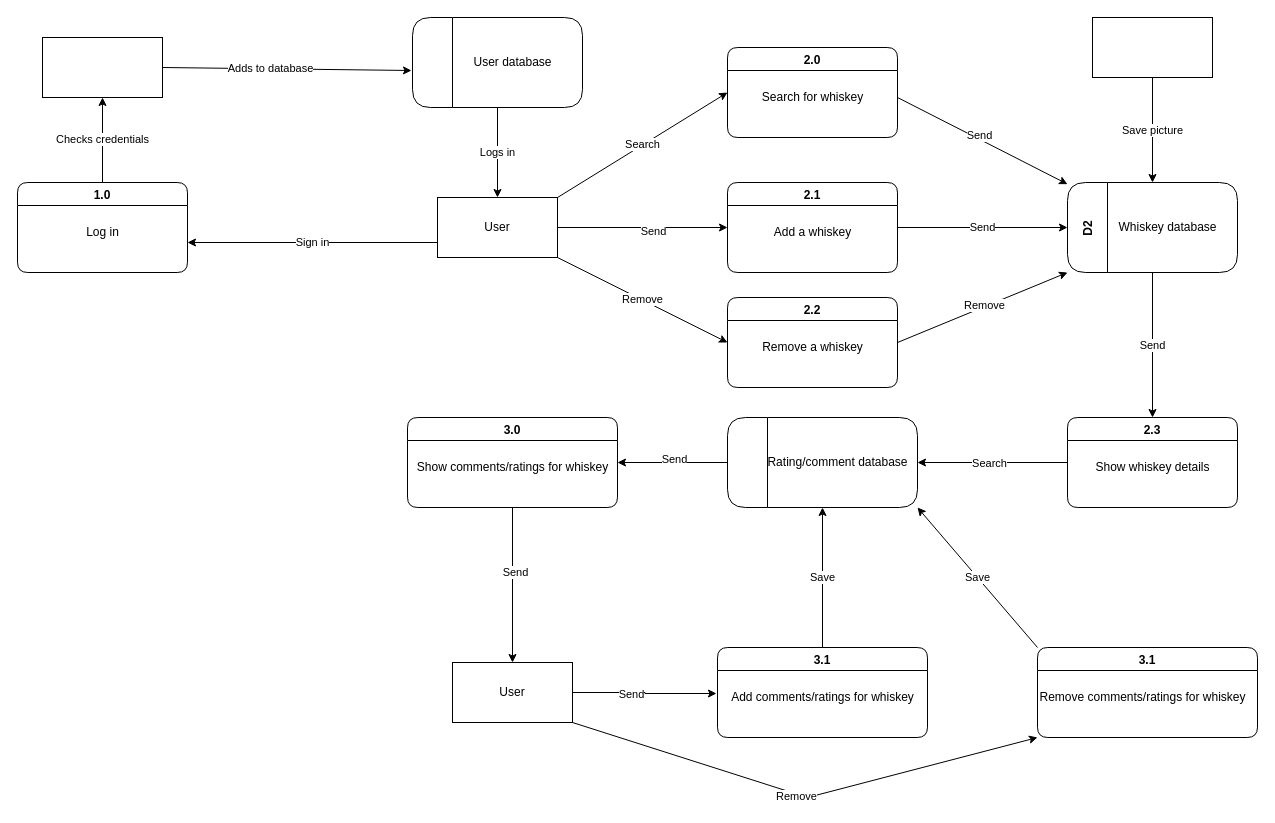
The diagram is 1275 pixels wide and 823 high, and some of its shapes have lost their labels. Each missing label, with the box of its shape:
Auth0 API: (42, 36, 162, 98)
Cloudinary: (1092, 16, 1212, 78)
D1: (412, 16, 582, 108)
D3: (726, 416, 918, 508)
